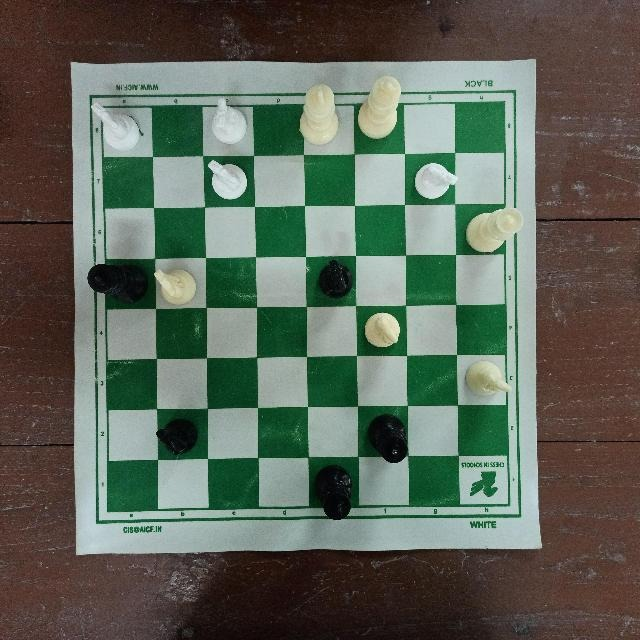black-king: (82, 255, 154, 310), (366, 411, 414, 463), (313, 463, 355, 522)
black-knight: (149, 410, 199, 464), (312, 255, 357, 303)
white-king: (350, 67, 404, 145), (295, 80, 346, 155)
white-knight: (85, 95, 147, 152), (150, 256, 200, 306), (206, 91, 250, 147), (202, 156, 250, 206), (407, 154, 459, 200), (464, 361, 520, 403), (360, 310, 408, 346)
white-queen: (458, 200, 525, 254)
